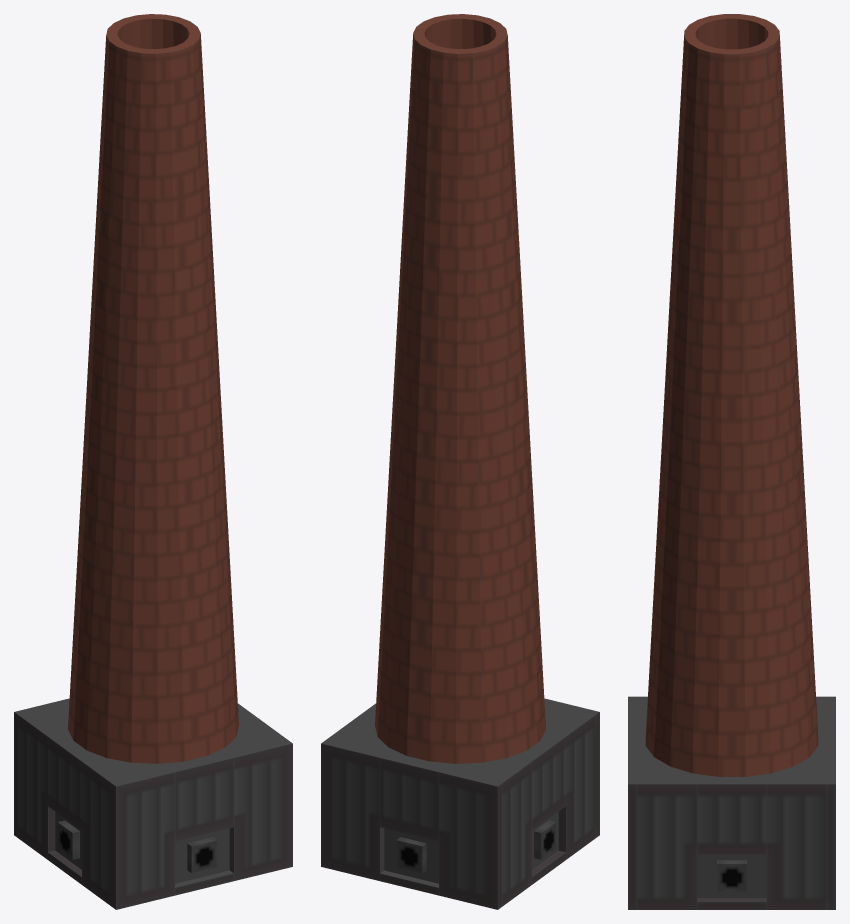
The model's file is smokestack.obj.
3 views of the same model, side by side, from view 1: azimuth 30°, elevation 25°; view 2: azimuth 150°, elevation 25°; view 3: azimuth 270°, elevation 25° (orthographic).
Parts seen in each view (by area): view 1: tube; view 2: tube; view 3: tube.
Part boxes in pixels (box(x1,y1,x2,y2)): tube: box(14, 14, 292, 909); tube: box(321, 14, 599, 909); tube: box(628, 14, 835, 909).
Size of the model in its own units: 3 by 13.25 by 3.
